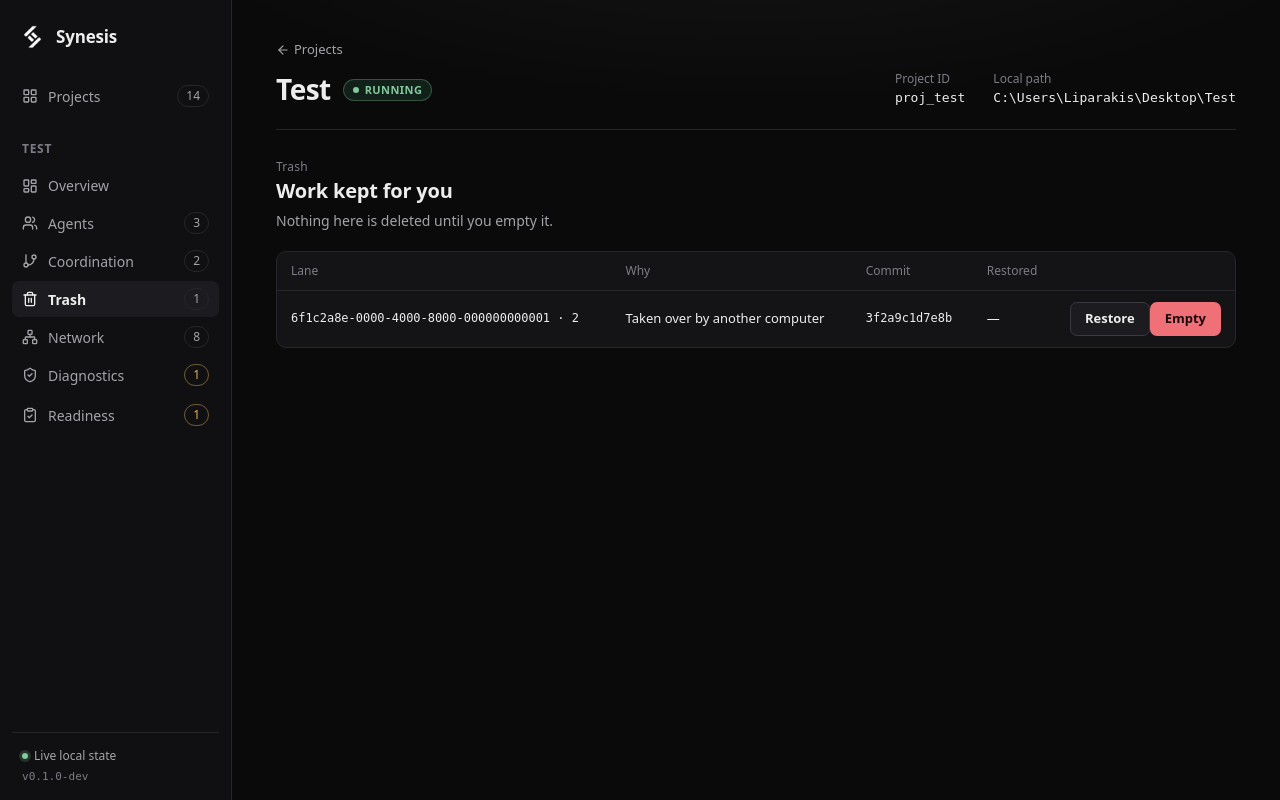
Test: the trash › restores a piece of work and names the work group it came back in
Check: the heading "Work kept for you" is shown, box [276,177,453,204]
Click the button "Restore": (1110, 319) [1070,302,1150,336]
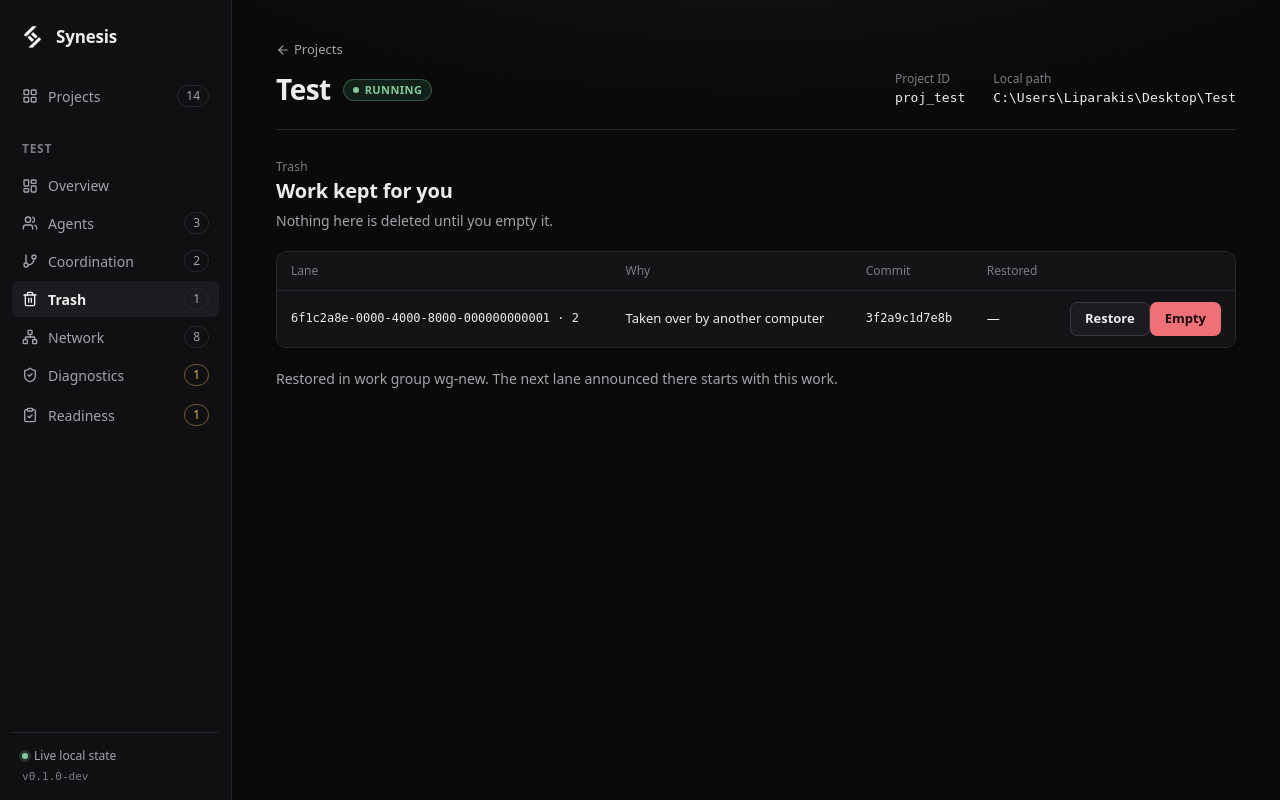
Check: the text "Restored in work group wg-new" is shown, box [276,369,838,388]
